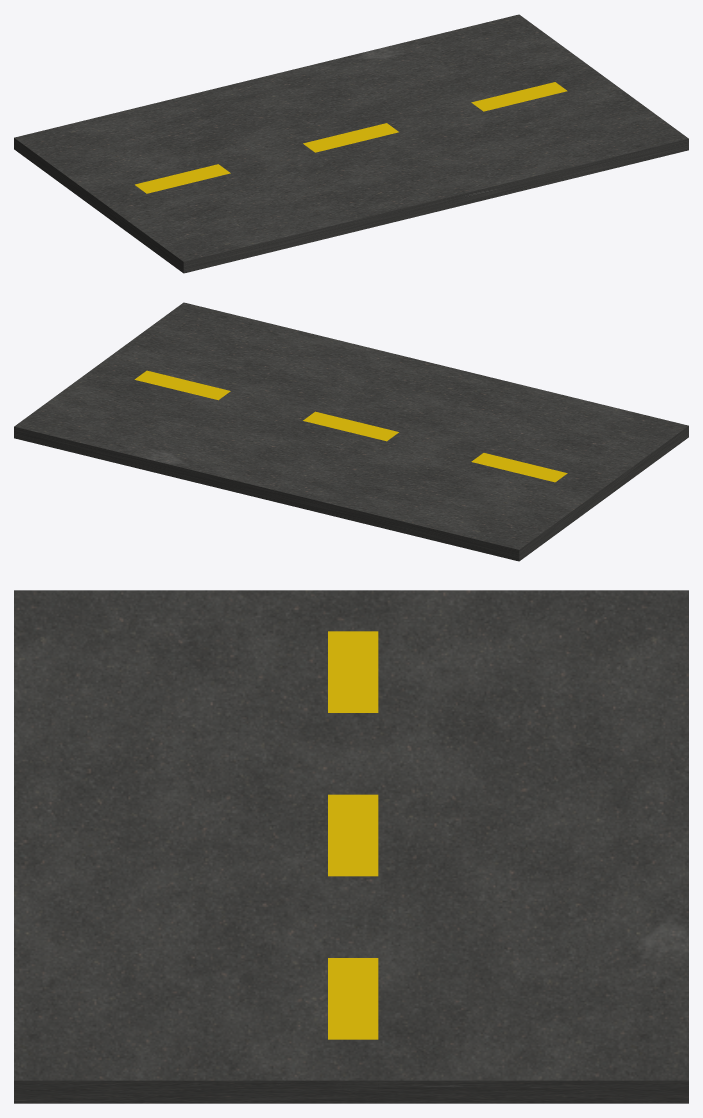
The model's file is road.fbx.
The picture shows the model from 3 angles, top to bottom: view 1: azimuth 30°, elevation 25°; view 2: azimuth 150°, elevation 25°; view 3: azimuth 270°, elevation 25°; orthographic projection. The views are drawn at different scales.
Visible parts, largest first — view 1: Cube; view 2: Cube; view 3: Cube.
Boxes of the visible parts, box(x1,y1,x2,y2) form: Cube: box(14, 14, 688, 273); Cube: box(14, 302, 688, 561); Cube: box(14, 590, 688, 1103).
Size of the model in its own units: 2131 by 46.8 by 1240.
